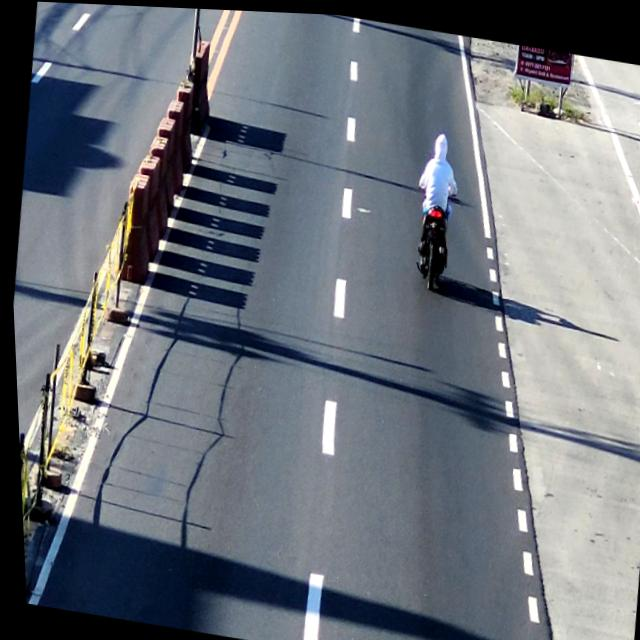Motorcycle: (405, 119, 465, 297)
